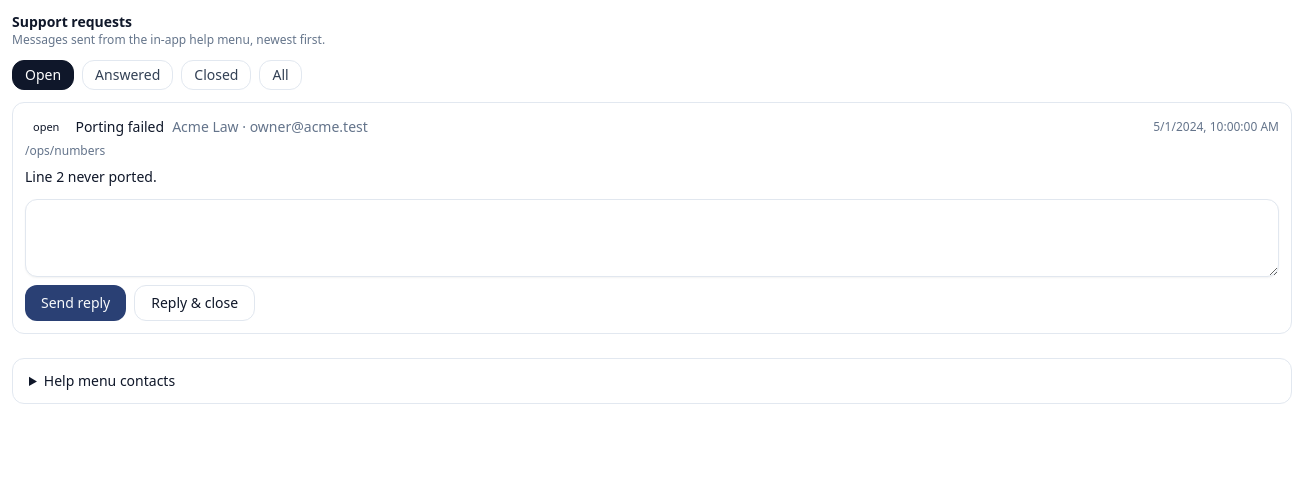
Scenario: SupportTab › requests a different list when the status filter changes
The width and height of the screenshot is (1292, 481).
Expected: the text "Porting failed" is shown, top-left (75, 117), bottom-right (164, 137)
Step 1. Click the button "Answered" → click(128, 75), box top-left (82, 60), bottom-right (173, 90)
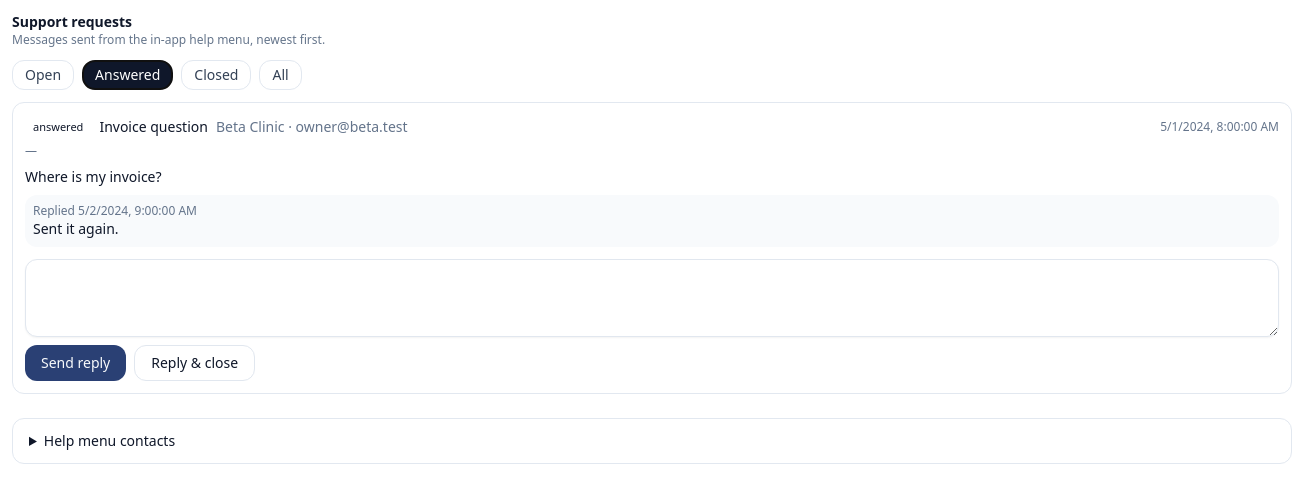
Expected: the text "Invoice question" is shown, top-left (99, 117), bottom-right (208, 137)
